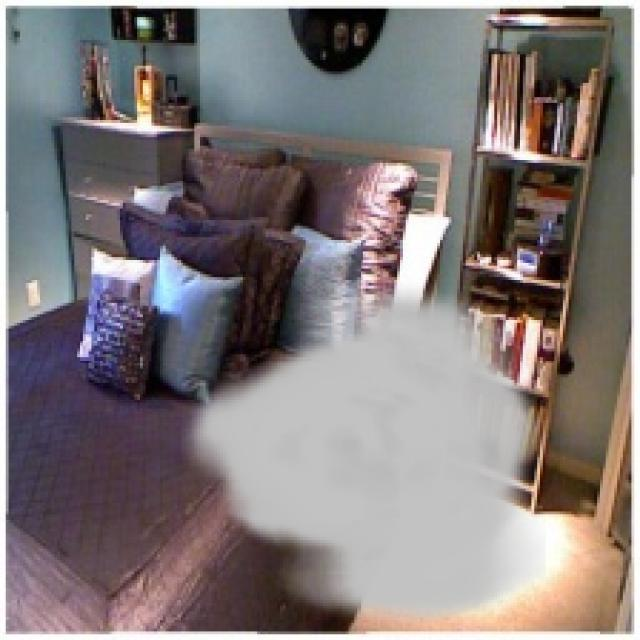smoke: (180, 277, 546, 629)
